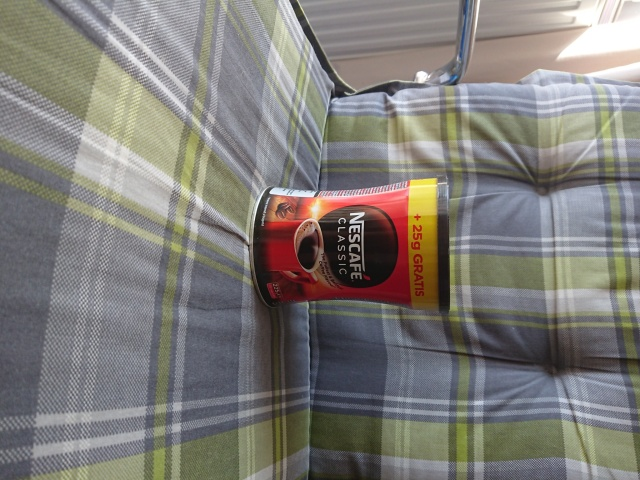Nescafe Classic 225g: (245, 171, 453, 314)
